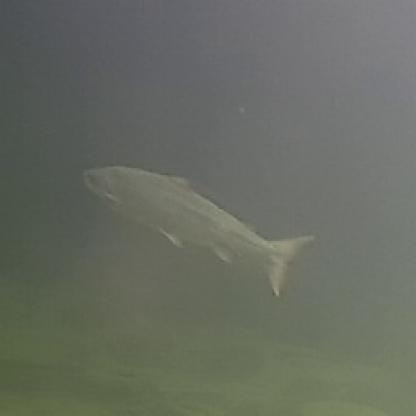salmon: (75, 156, 317, 296)
